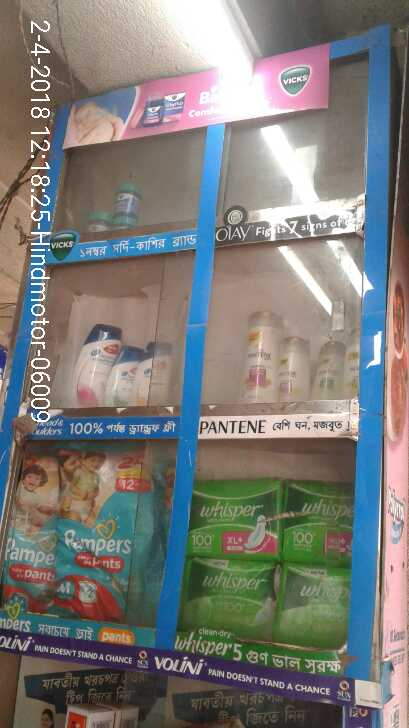vicks: (87, 185, 145, 237)
